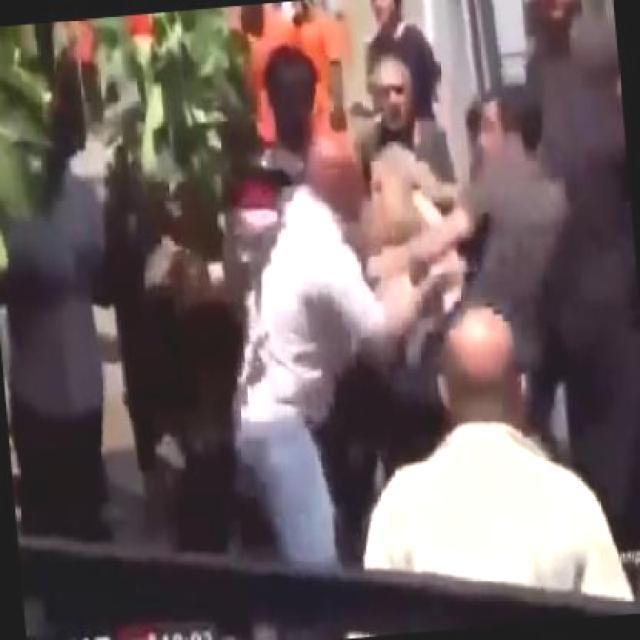fight: (362, 91, 568, 307)
